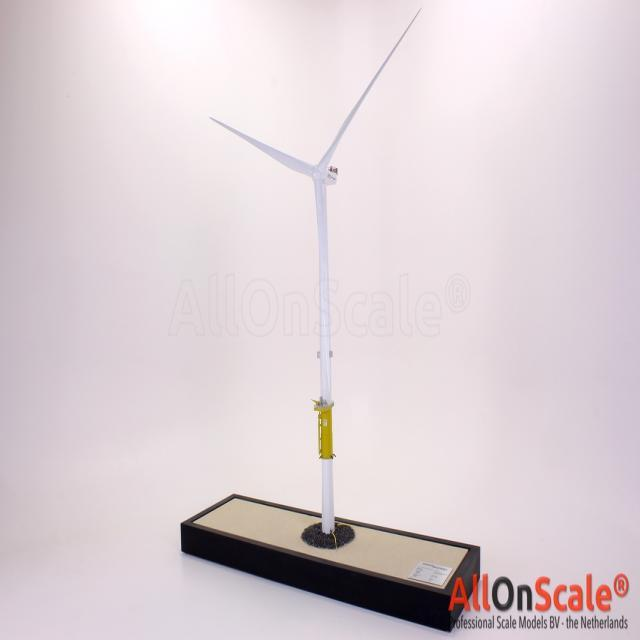solid-blade: (319, 9, 422, 166), (211, 118, 314, 176)
